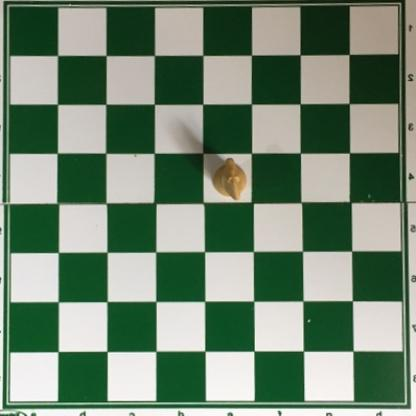white-knight: (211, 157, 248, 202)
